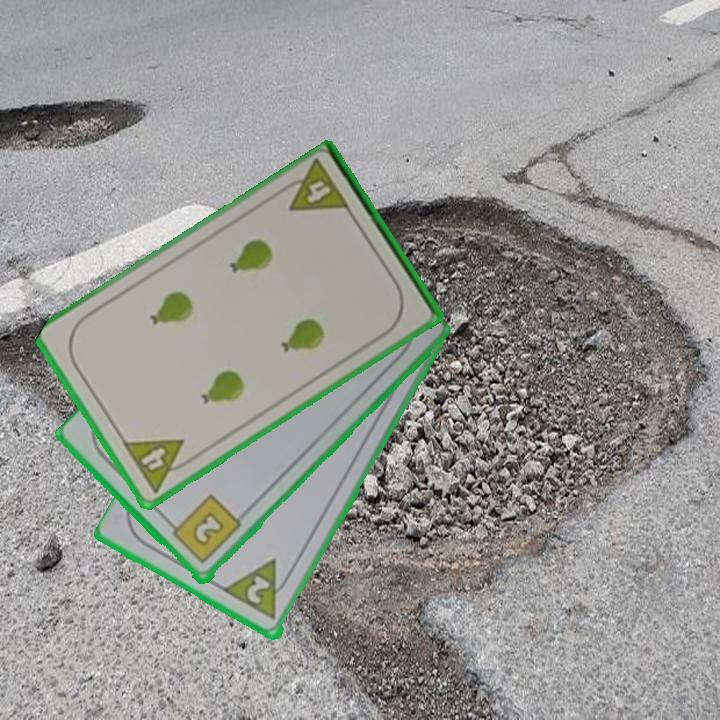2b: (164, 491, 244, 567)
2p: (243, 572, 274, 608)
4p: (119, 435, 198, 496), (275, 156, 353, 215)
